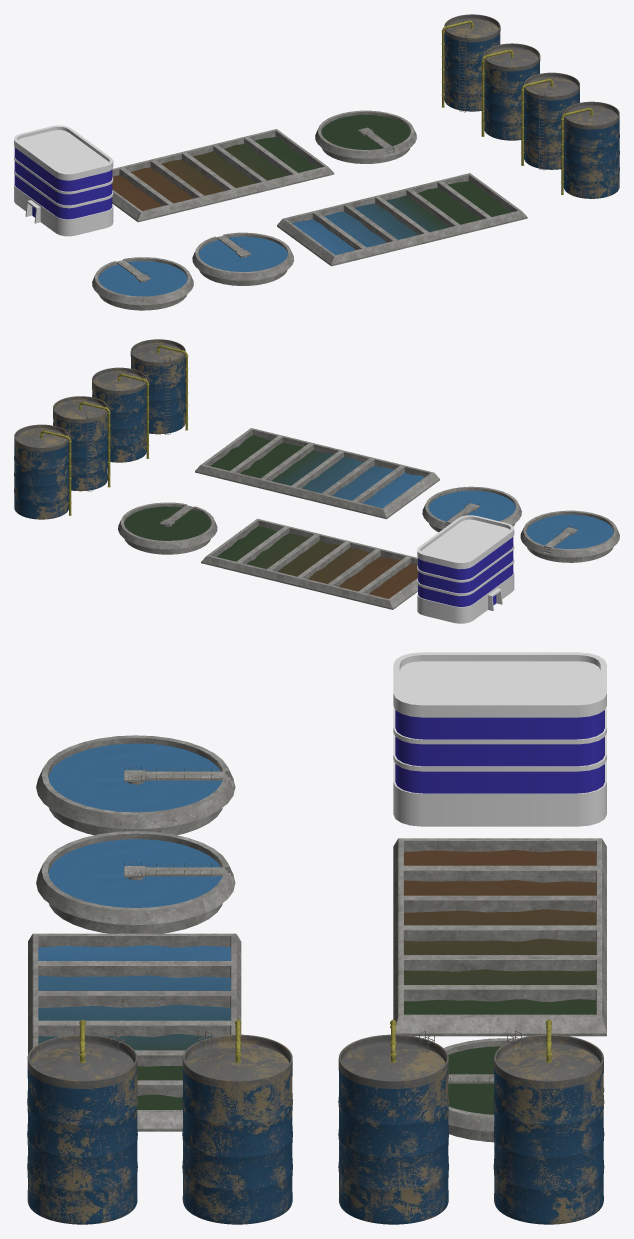
The model's file is water_treatment_plant.glb.
The picture shows the model from 3 angles, top to bottom: view 1: azimuth 30°, elevation 25°; view 2: azimuth 150°, elevation 25°; view 3: azimuth 270°, elevation 25°; orthographic projection. The views are drawn at different scales.
Visible parts, largest first — view 1: Silos_12, Building_14, Water_Filtration_Square.001_16, Water_Filtration_Square_5, Water_Filtration_Square_Water.001_15, Water_Filtration_Square_Water_4, Water_Basin_Round_Water.002_23, Water_Basin_Round_Water.001_19, Water_Basin_Round_Water_2, Water_Basin_Round_3, Water_Basin_Round.002_24, Water_Basin_Round.001_20 (+2 smaller); view 2: Silos_12, Building_14, Water_Filtration_Square.001_16, Water_Filtration_Square_5, Water_Filtration_Square_Water.001_15, Water_Filtration_Square_Water_4, Water_Basin_Round_Water_2, Water_Basin_Round_Water.002_23, Water_Basin_Round.002_24, Water_Basin_Round_3, Water_Basin_Round_Water.001_19, Water_Basin_Round.001_20 (+2 smaller); view 3: Silos_12, Building_14, Water_Filtration_Square_5, Water_Filtration_Square_Water_4, Water_Filtration_Square.001_16, Water_Filtration_Square_Water.001_15, Water_Basin_Round_Water.002_23, Water_Basin_Round_Water.001_19, Water_Basin_Round.001_20, Water_Basin_Round.002_24, Water_Basin_Round_Water_2, Water_Basin_Round_3.
Part boxes in pixels (x1,y1,x2,y2): Silos_12: (444, 14, 619, 198); Building_14: (14, 125, 113, 236); Water_Filtration_Square.001_16: (277, 173, 527, 266); Water_Filtration_Square_5: (112, 129, 334, 222); Water_Filtration_Square_Water.001_15: (292, 181, 511, 255); Water_Filtration_Square_Water_4: (112, 137, 318, 210); Water_Basin_Round_Water.002_23: (98, 261, 187, 296); Water_Basin_Round_Water.001_19: (198, 236, 287, 271); Water_Basin_Round_Water_2: (321, 114, 410, 149); Water_Basin_Round_3: (315, 110, 416, 163); Water_Basin_Round.002_24: (92, 257, 193, 310); Water_Basin_Round.001_20: (192, 232, 294, 285); Silos_12: (14, 339, 185, 519); Building_14: (417, 515, 514, 623); Water_Filtration_Square.001_16: (195, 428, 439, 519); Water_Filtration_Square_5: (201, 518, 417, 609); Water_Filtration_Square_Water.001_15: (210, 435, 424, 508); Water_Filtration_Square_Water_4: (216, 526, 417, 598); Water_Basin_Round_Water_2: (124, 506, 211, 540); Water_Basin_Round_Water.002_23: (526, 514, 613, 548); Water_Basin_Round.002_24: (520, 510, 619, 562); Water_Basin_Round_3: (118, 502, 217, 554); Water_Basin_Round_Water.001_19: (428, 490, 515, 521); Water_Basin_Round.001_20: (422, 486, 521, 532); Silos_12: (27, 1034, 604, 1224); Building_14: (393, 652, 606, 826); Water_Filtration_Square_5: (393, 838, 606, 1036); Water_Filtration_Square_Water_4: (404, 850, 596, 1014); Water_Filtration_Square.001_16: (28, 933, 241, 1131); Water_Filtration_Square_Water.001_15: (38, 945, 230, 1109); Water_Basin_Round_Water.002_23: (48, 743, 222, 812); Water_Basin_Round_Water.001_19: (48, 839, 222, 907); Water_Basin_Round.001_20: (36, 831, 235, 933); Water_Basin_Round.002_24: (36, 735, 235, 835); Water_Basin_Round_Water_2: (448, 1046, 500, 1114); Water_Basin_Round_3: (443, 1038, 604, 1142).
Size of the model in its own units: 23.08 by 3.88 by 11.77.
Materials: 12 (8 with a texture image).
